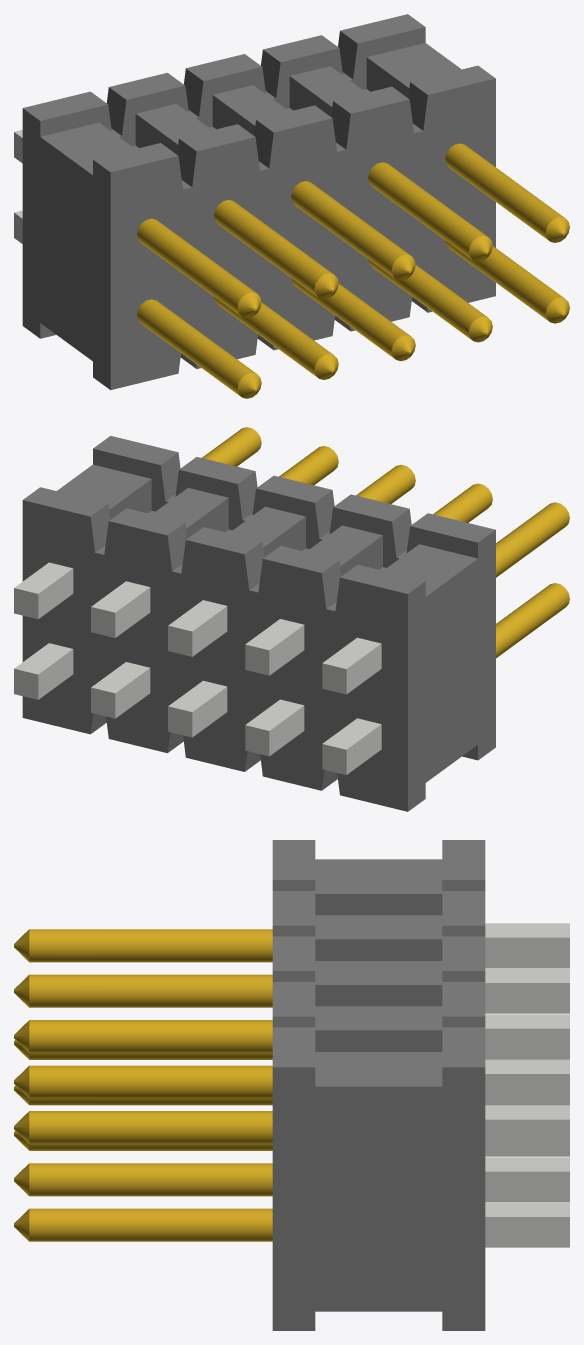
File: JLCPCB_Assembly_FTSH_105_01_F_D_K.3dmodel.glb
The picture shows the model from 3 angles, top to bottom: view 1: azimuth 30°, elevation 25°; view 2: azimuth 150°, elevation 25°; view 3: azimuth 270°, elevation 25°; orthographic projection. The views are drawn at different scales.
Parts seen in each view (by area): view 1: =>[0:1:1:1]; view 2: =>[0:1:1:1]; view 3: =>[0:1:1:1].
Part boxes in pixels (x1,y1,x2,y2): =>[0:1:1:1]: [14, 14, 569, 398]; =>[0:1:1:1]: [14, 427, 569, 811]; =>[0:1:1:1]: [14, 840, 569, 1330].
Bounding box in the file's own units: 6.35 × 3.43 × 6.56.
